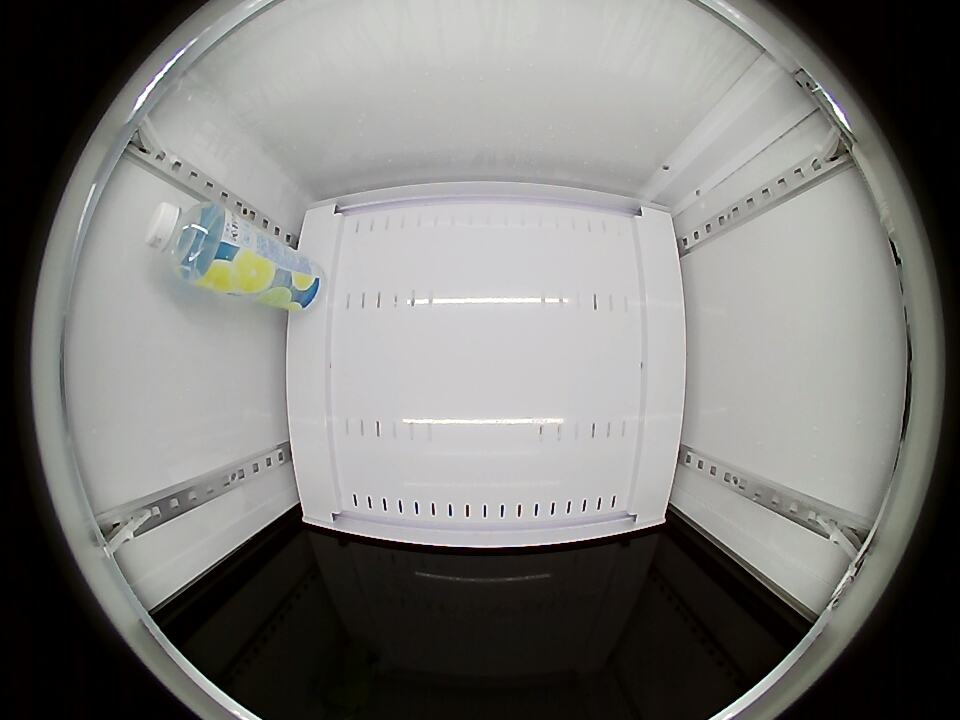qinningshui: (144, 201, 234, 284)
